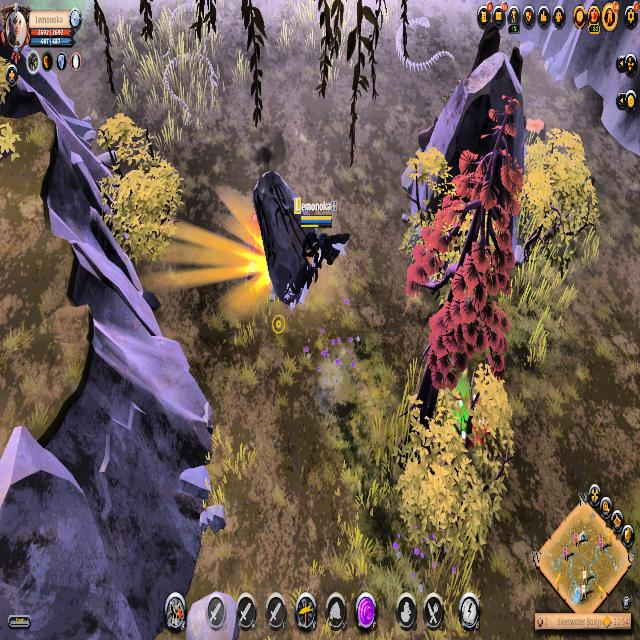wood tier 5: (404, 93, 525, 393)
